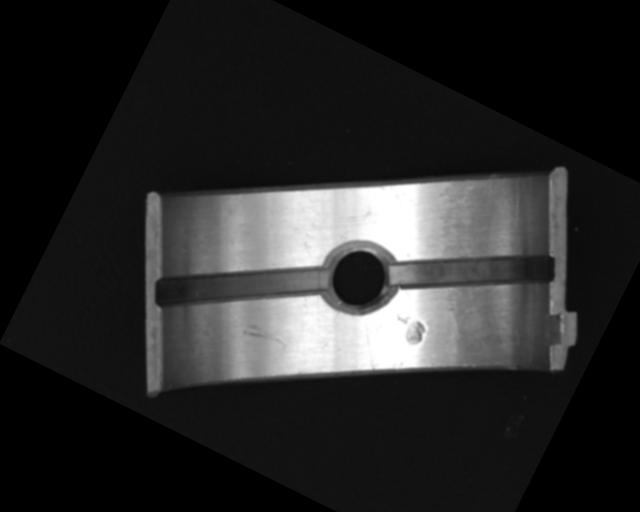bruise: (386, 309, 430, 350)
gap: (151, 206, 332, 368), (384, 196, 560, 347)
hole: (313, 230, 405, 326)
nick: (240, 318, 293, 356)
